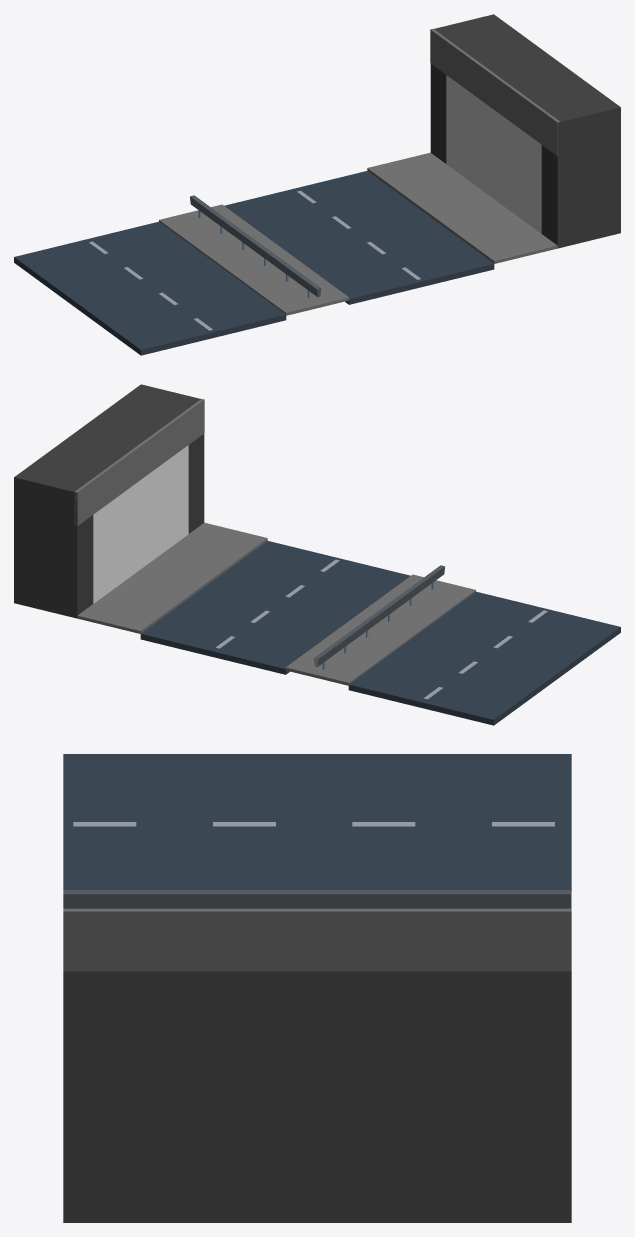
File: Road3.glb
3 views of the same model, one above another, from view 1: azimuth 30°, elevation 25°; view 2: azimuth 150°, elevation 25°; view 3: azimuth 270°, elevation 25° (orthographic). The views are drawn at different scales.
Visible parts, largest first — view 1: Node, Cube.003, Cube.001, Cube, Cube.004, Cube.002; view 2: Node, Cube.003, Cube.001, Cube, Cube.004, Cube.002; view 3: Cube.003, Node, Cube.002.
Boxes of the visible parts, box(x1,y1,x2,y2) form: Node: box(14, 171, 494, 355); Cube.003: box(430, 14, 620, 248); Cube.001: box(446, 75, 541, 233); Cube: box(367, 152, 557, 263); Cube.004: box(159, 204, 349, 315); Cube.002: box(430, 29, 559, 155); Node: box(140, 541, 620, 725); Cube.003: box(14, 384, 204, 618); Cube.001: box(93, 445, 188, 603); Cube: box(77, 522, 267, 633); Cube.004: box(285, 574, 475, 685); Cube.002: box(74, 399, 204, 525); Cube.003: box(63, 912, 571, 1222); Node: box(63, 754, 571, 908); Cube.002: box(63, 908, 571, 911).
Size of the model in its own units: 21.81 by 5.72 by 10.
Materials: 4 (1 with a texture image).
